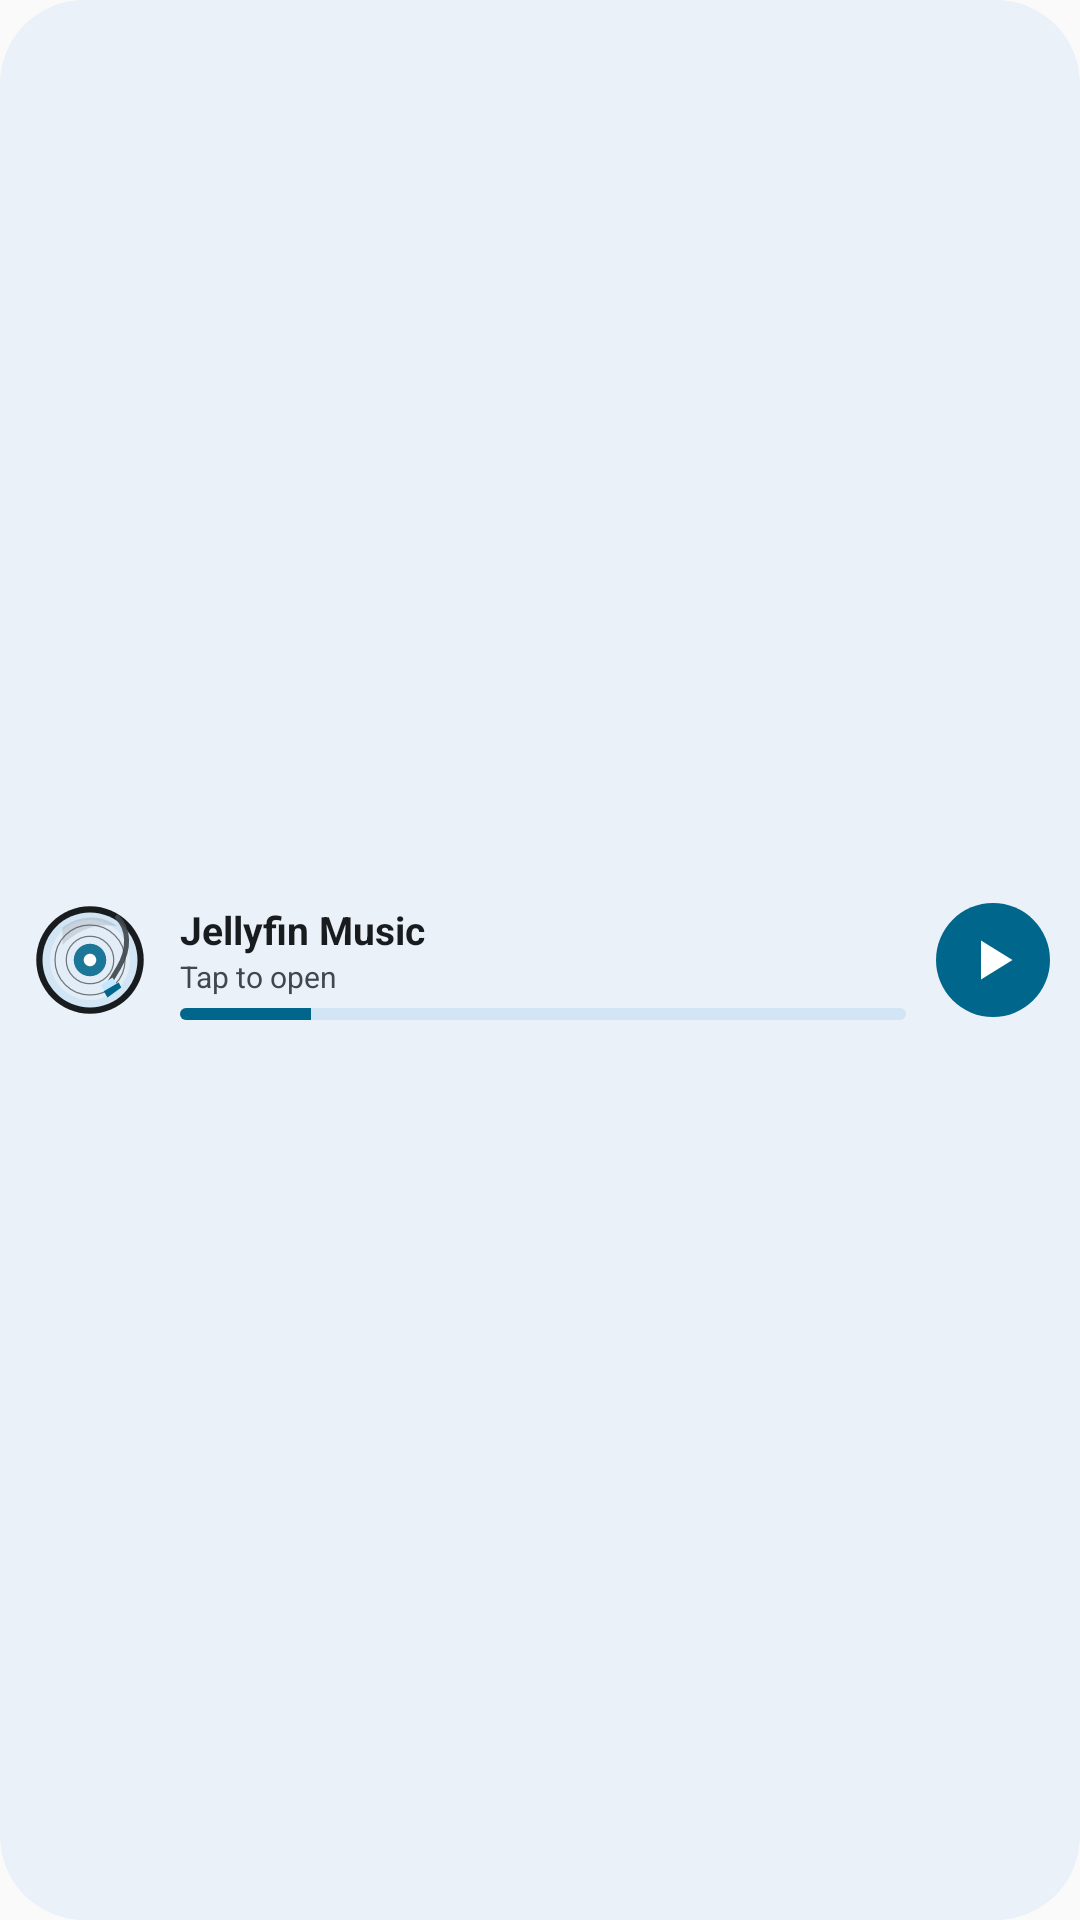

Where icons sit on this 1080 × 1920 app screen, as box=[x1, y1, x2, y2]:
Play or pause: box=[936, 903, 1050, 1017]
